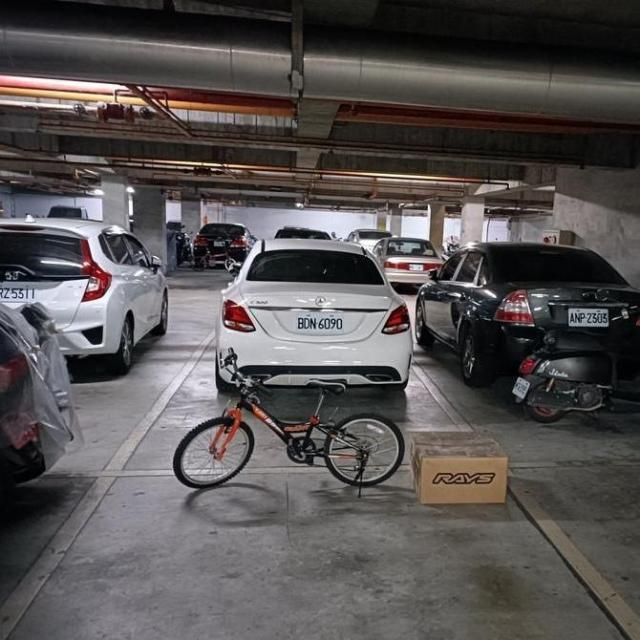W: (292, 309, 346, 335), (564, 302, 610, 328), (0, 279, 38, 303)
